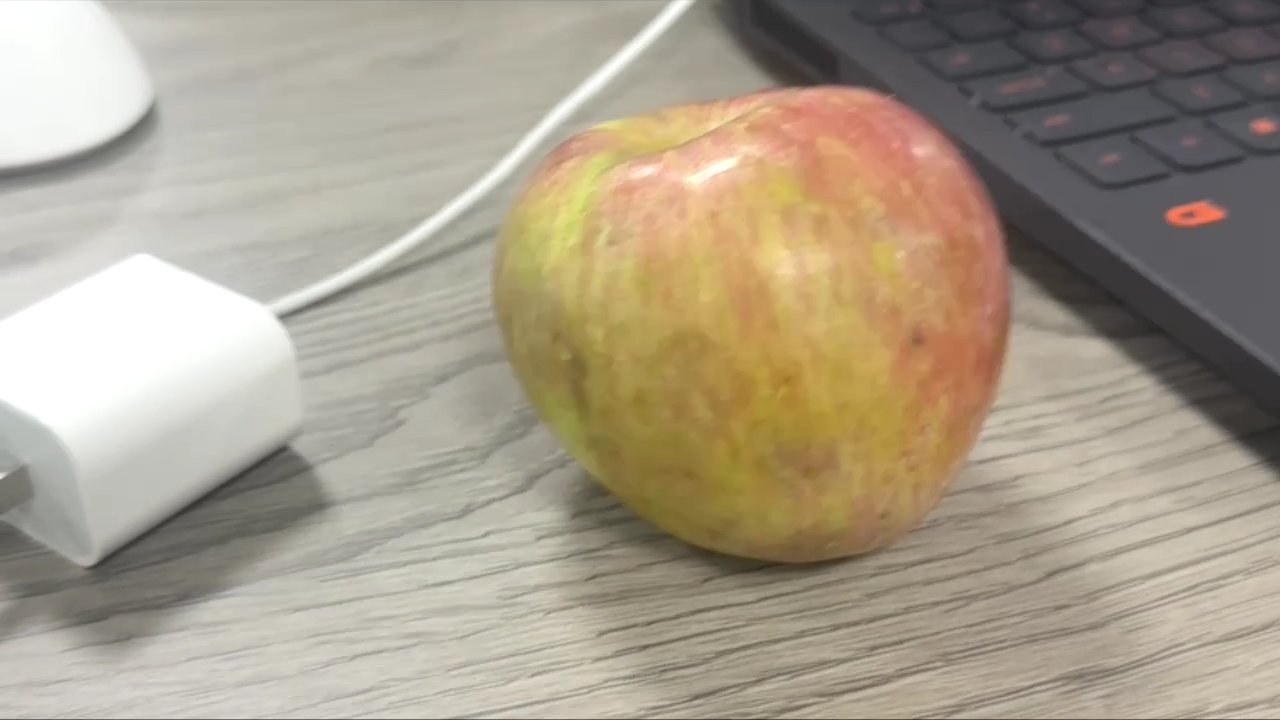apple_rotten: (468, 87, 1032, 573)
